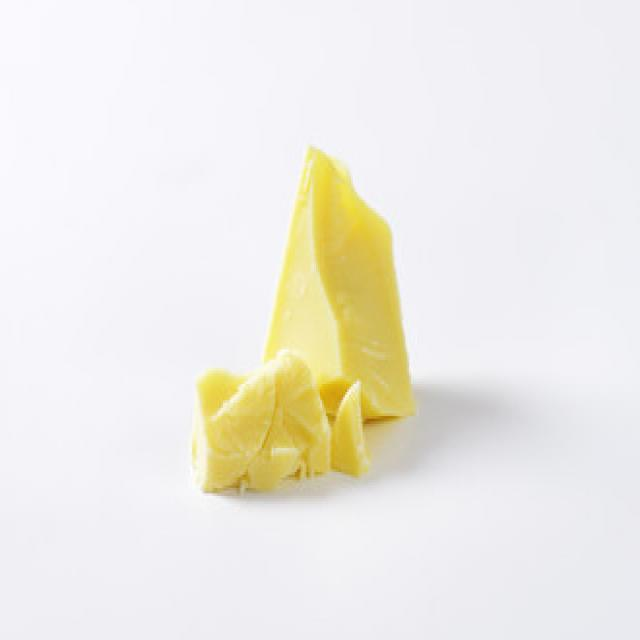Chocolate: (193, 141, 421, 496)
